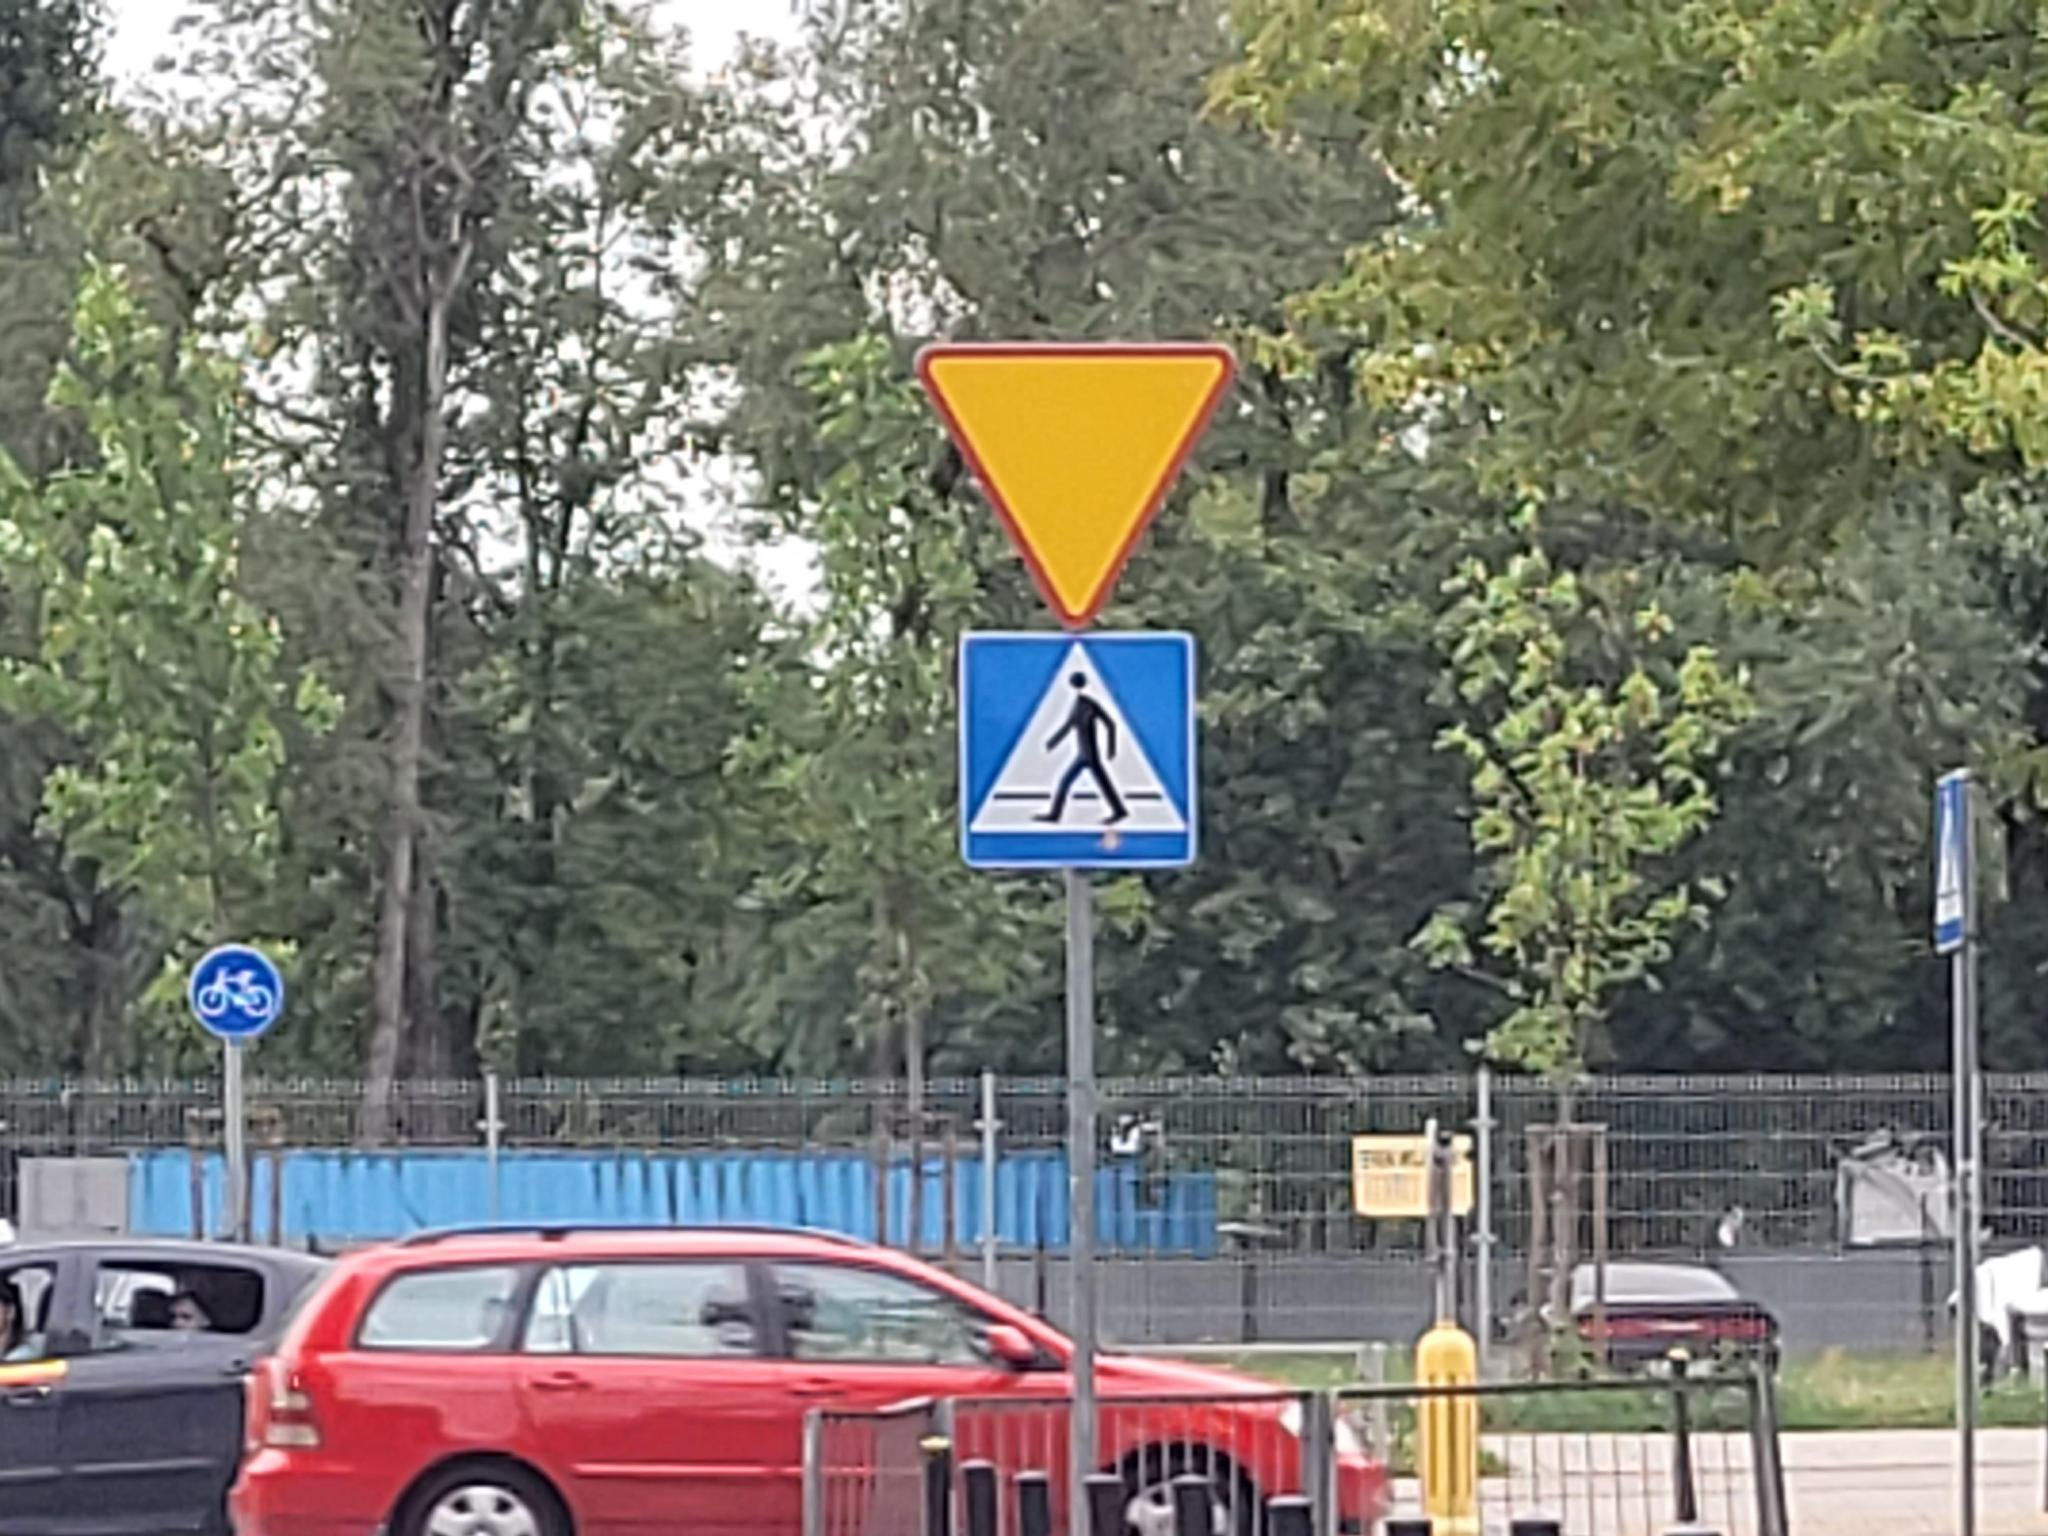information: (964, 636, 1193, 863), (1935, 774, 1969, 947)
mandatory: (187, 945, 285, 1041)
warning: (914, 342, 1235, 632)
